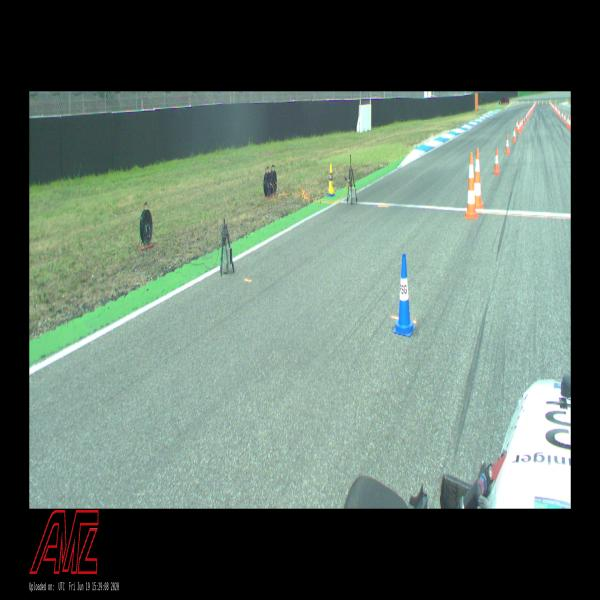blue_cone: (393, 254, 415, 336)
large_orange_cone: (465, 152, 478, 219), (474, 149, 484, 208)
orange_cone: (494, 148, 500, 174), (505, 134, 510, 154), (512, 127, 516, 142), (518, 121, 520, 134), (569, 117, 571, 130), (520, 119, 522, 131), (516, 120, 518, 131), (567, 116, 569, 127), (564, 113, 566, 123), (524, 114, 526, 124), (522, 118, 524, 128), (526, 112, 528, 120), (527, 111, 529, 118), (557, 108, 559, 115), (562, 111, 563, 120), (559, 110, 560, 118), (556, 107, 557, 113)
yellow_cone: (328, 163, 334, 194)
